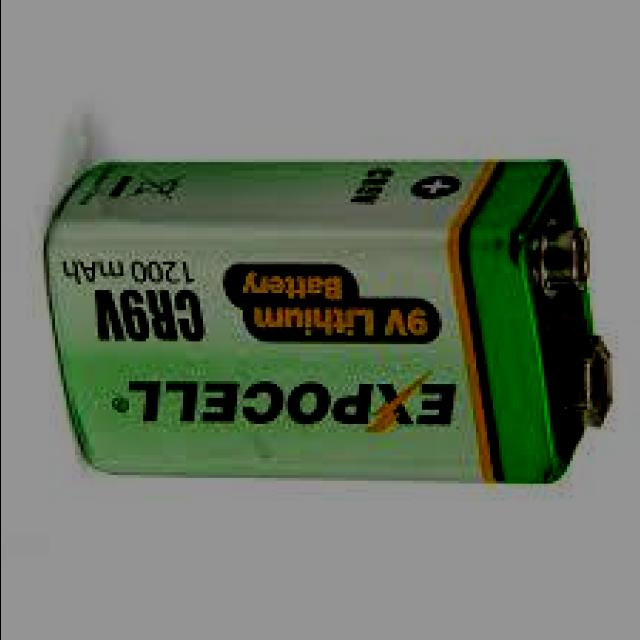9V: (32, 151, 618, 495)
